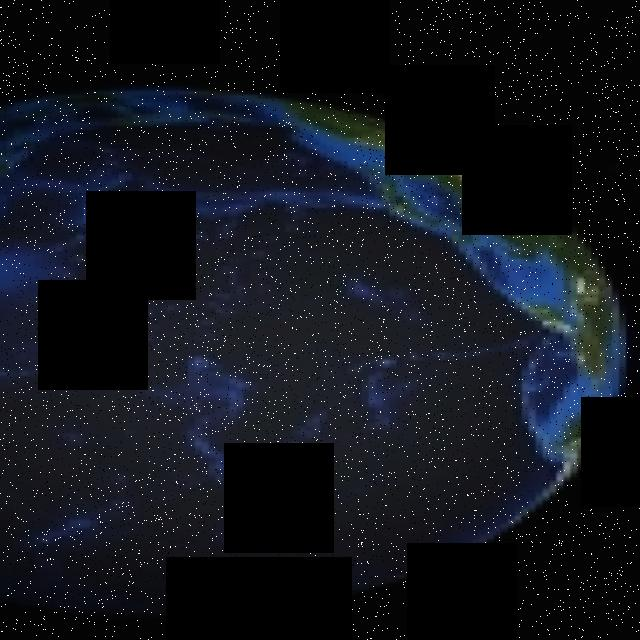Earth: (0, 82, 640, 620)
